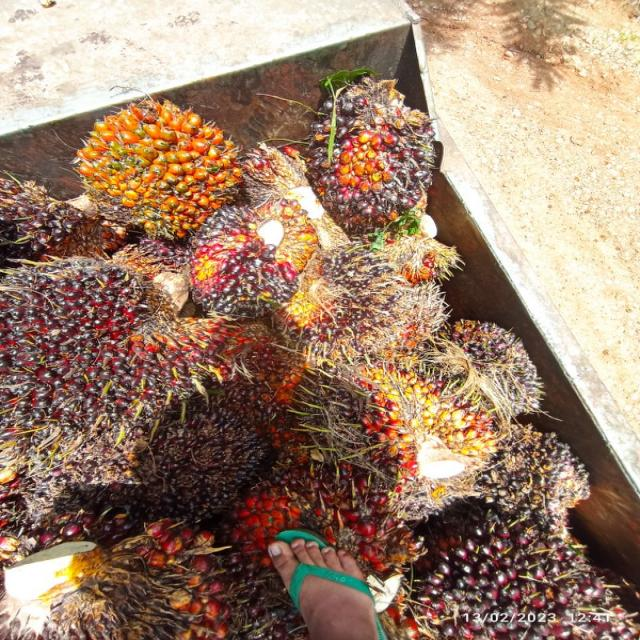fraksi 00: (276, 318, 523, 503), (285, 58, 472, 263), (11, 394, 260, 539), (273, 239, 411, 345)
fraksi 1: (0, 218, 239, 464), (171, 192, 330, 332)
fraksi 4: (51, 83, 274, 249)
